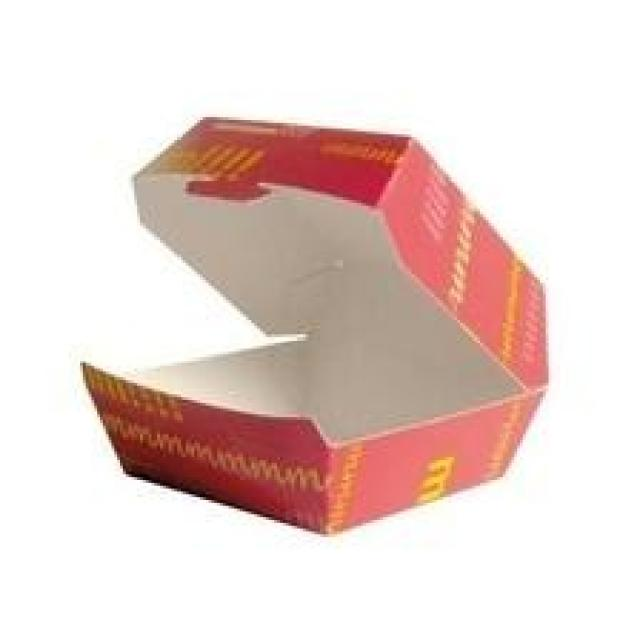PaperCardboard: (81, 108, 554, 535)
